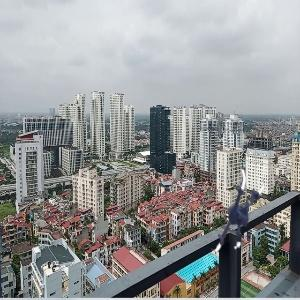drone: (189, 167, 276, 254)
